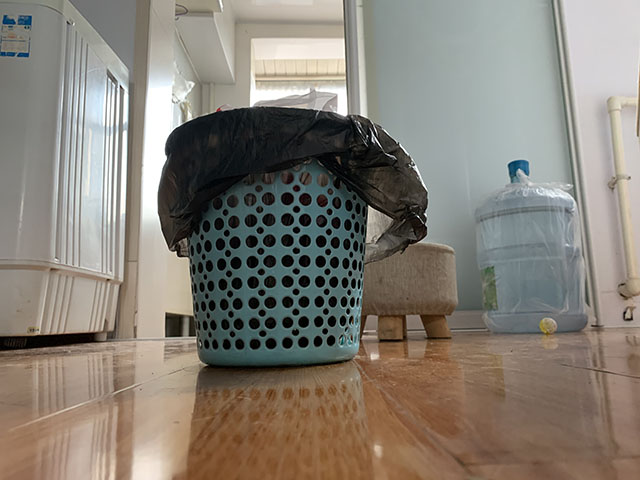stool: (361, 242, 459, 342)
trashcan: (157, 106, 429, 370)
